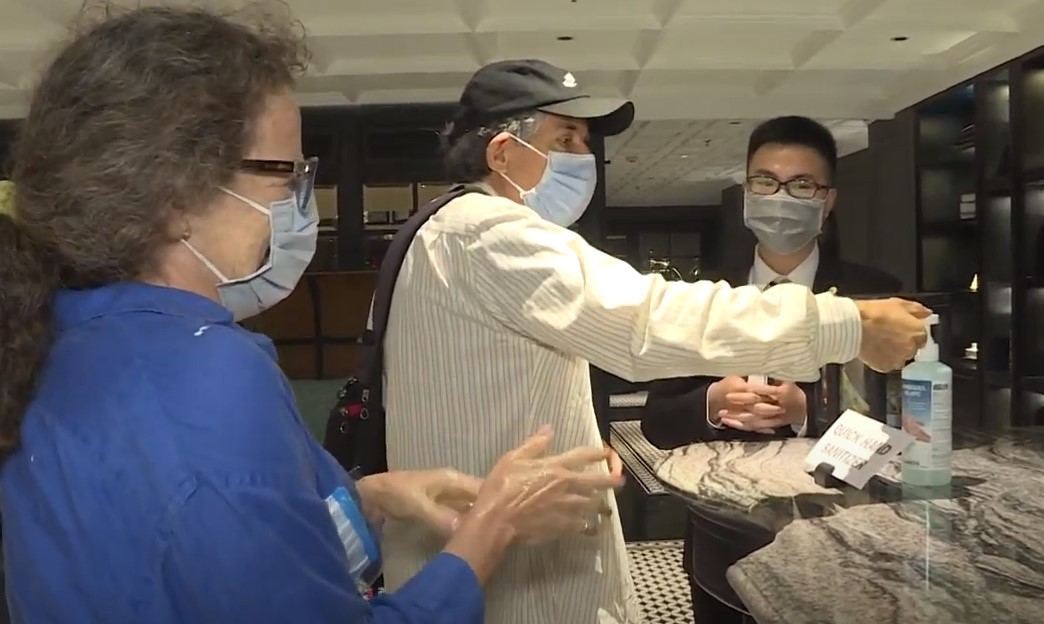face_with_mask: (90, 14, 324, 324), (466, 68, 627, 233), (740, 110, 840, 255)
